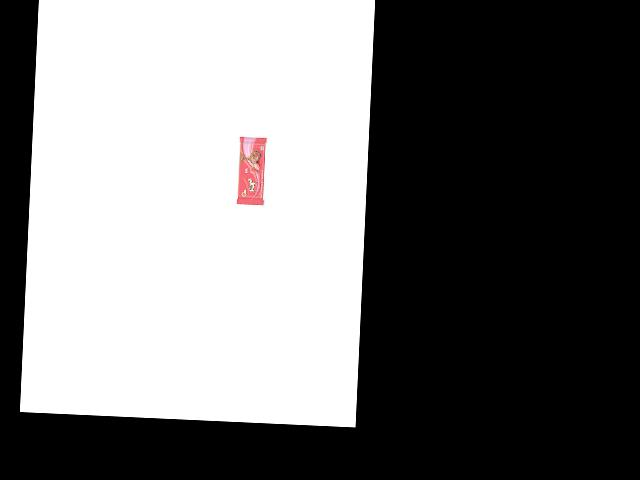chocolate: (236, 136, 271, 210)
